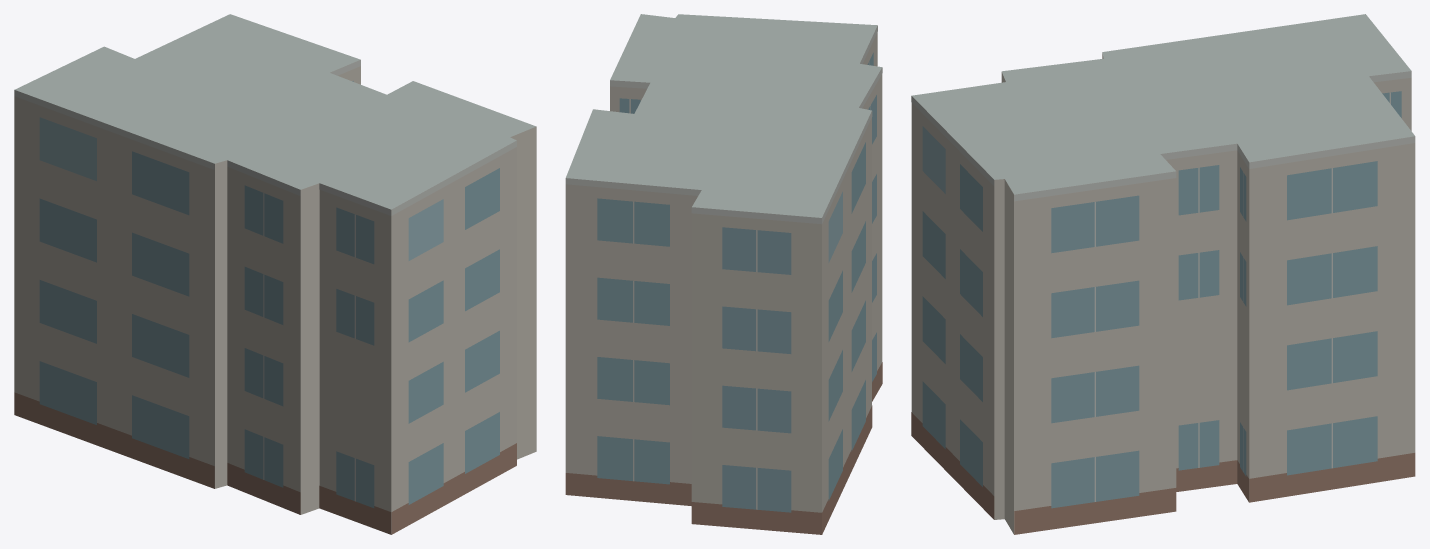
Rendered from survey-upis-32891982.glb.
The picture shows the model from 3 angles, left to right: view 1: azimuth 30°, elevation 25°; view 2: azimuth 150°, elevation 25°; view 3: azimuth 270°, elevation 25°; orthographic projection. The views are drawn at different scales.
Visible parts, largest first — view 1: survey-upis-32891982.tmp; view 2: survey-upis-32891982.tmp; view 3: survey-upis-32891982.tmp.
Part boxes in pixels (left/top/right/bottom): survey-upis-32891982.tmp: left=14, top=14, right=536, bottom=534; survey-upis-32891982.tmp: left=565, top=14, right=882, bottom=534; survey-upis-32891982.tmp: left=911, top=14, right=1415, bottom=534.
Size of the model in its own units: 14.13 by 12.4 by 16.66.
